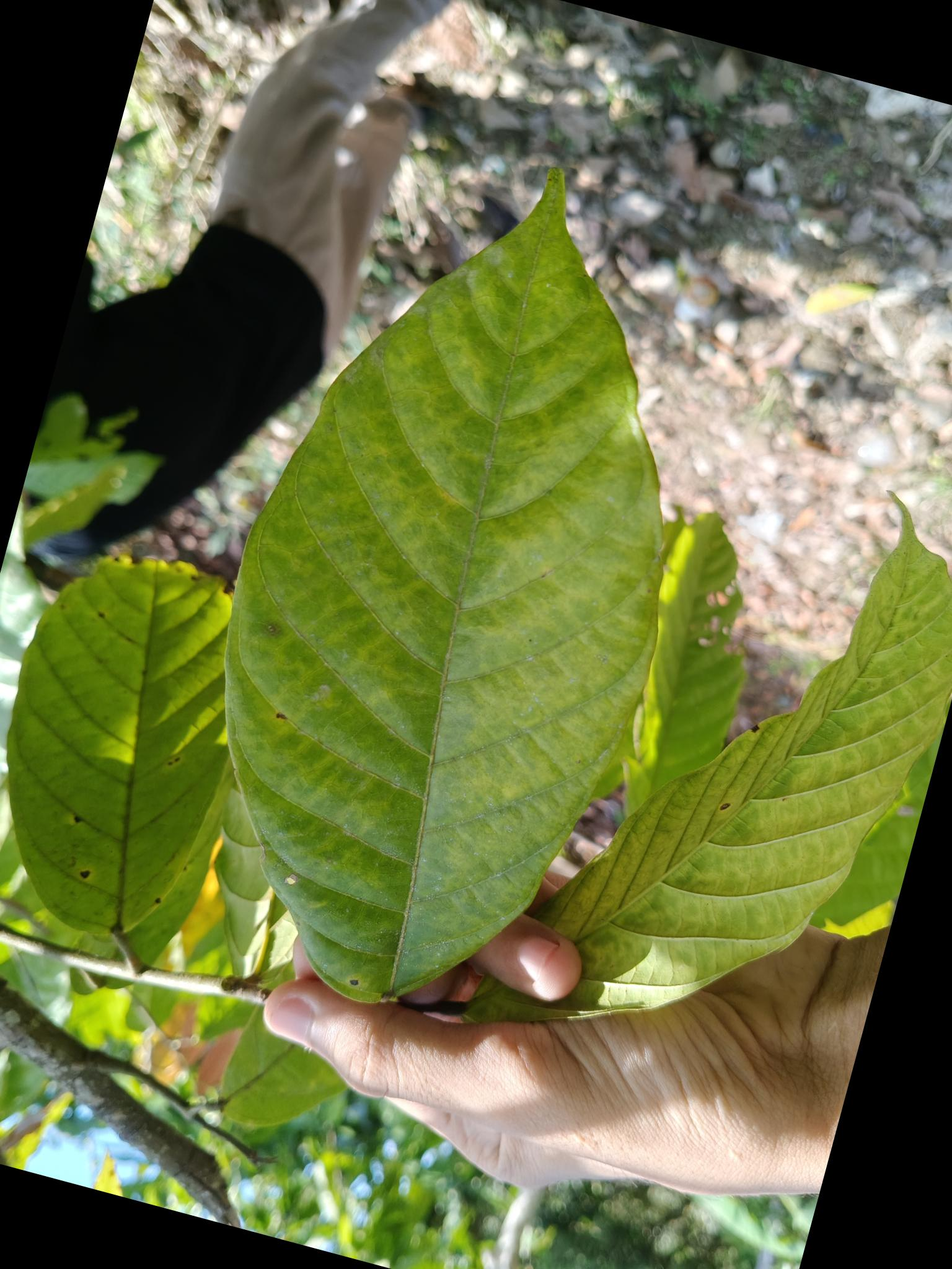Fosforo: (232, 180, 668, 1041)
